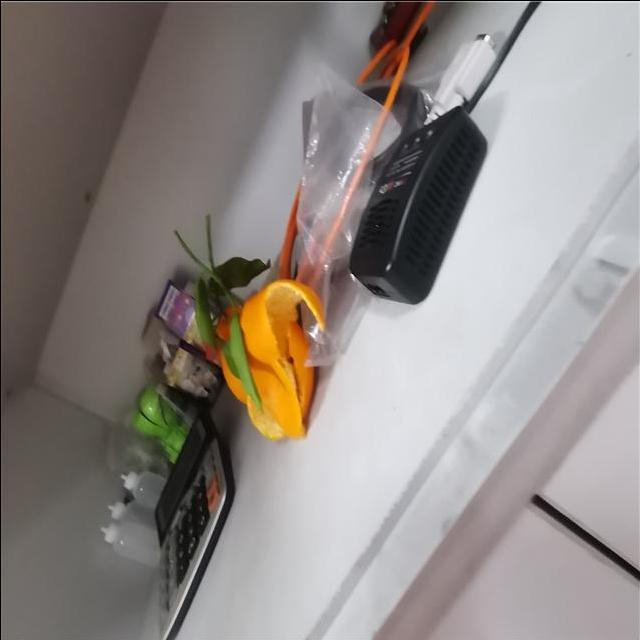orange peel: (219, 262, 324, 448)
